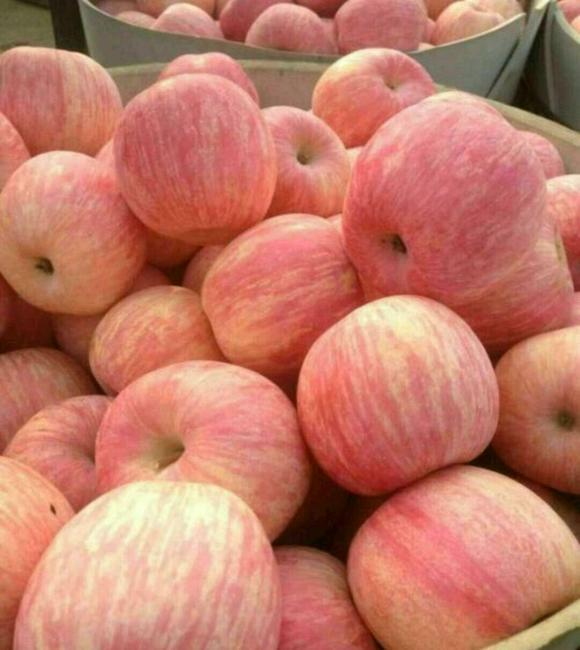apple: (15, 474, 284, 650), (339, 89, 549, 303), (295, 293, 504, 501), (347, 463, 580, 646), (91, 358, 311, 547), (111, 69, 278, 246), (200, 211, 366, 372), (1, 148, 150, 316), (82, 281, 223, 393), (4, 45, 125, 156), (312, 45, 441, 148), (257, 104, 354, 223)
